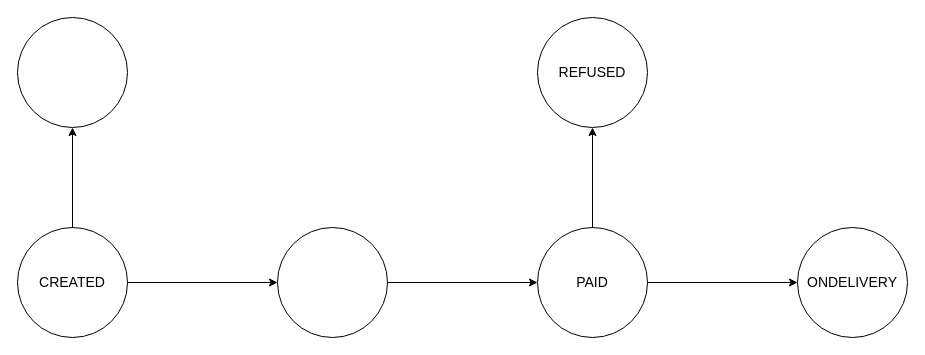
This 925x355 diagram has some shape labels left out. Here are the shapes that lost their labels. From the top down, the box of each, then its label:
(16, 16, 128, 128): CANCELLED
(276, 226, 388, 338): CONFIRMED
